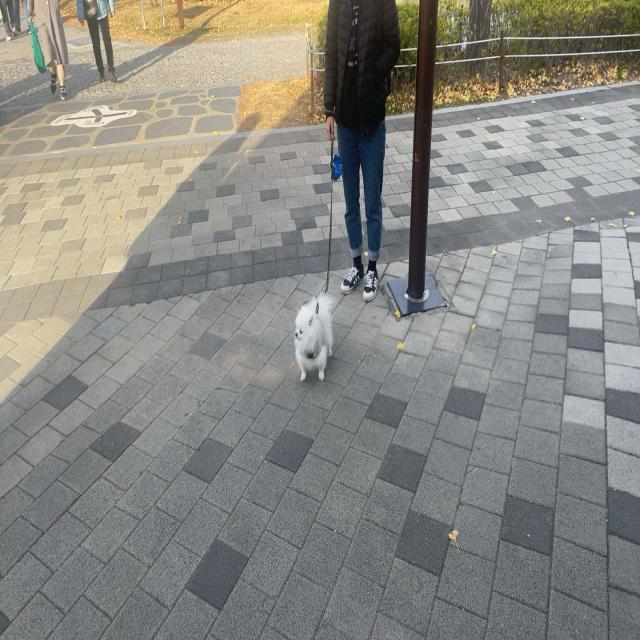Leashed_Dog: (294, 115, 356, 384)
